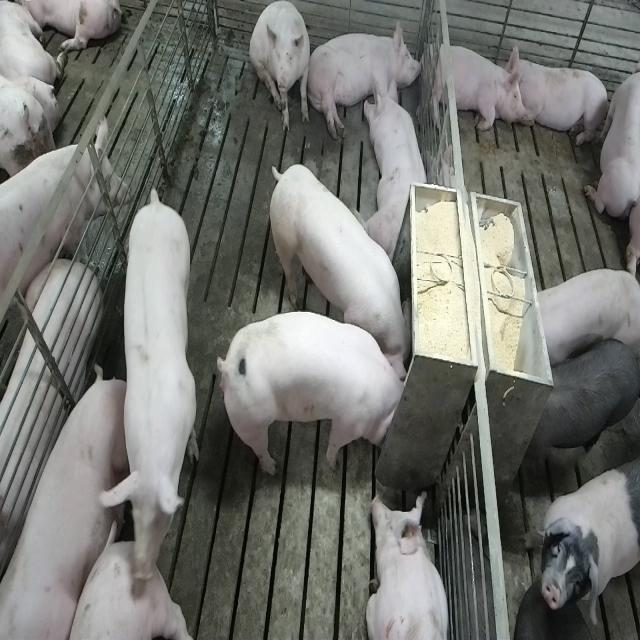Feeding: (216, 314, 409, 482), (264, 161, 412, 377)
Lateral_lying: (0, 366, 136, 640), (306, 17, 424, 142)
Sitting: (250, 2, 312, 134)
Standing: (116, 192, 200, 542), (0, 124, 129, 344), (518, 337, 638, 488), (533, 439, 637, 611), (528, 270, 639, 370)
Sternal_lying: (364, 72, 432, 260), (365, 490, 450, 640), (511, 49, 612, 150), (425, 36, 525, 135), (584, 40, 637, 224)
